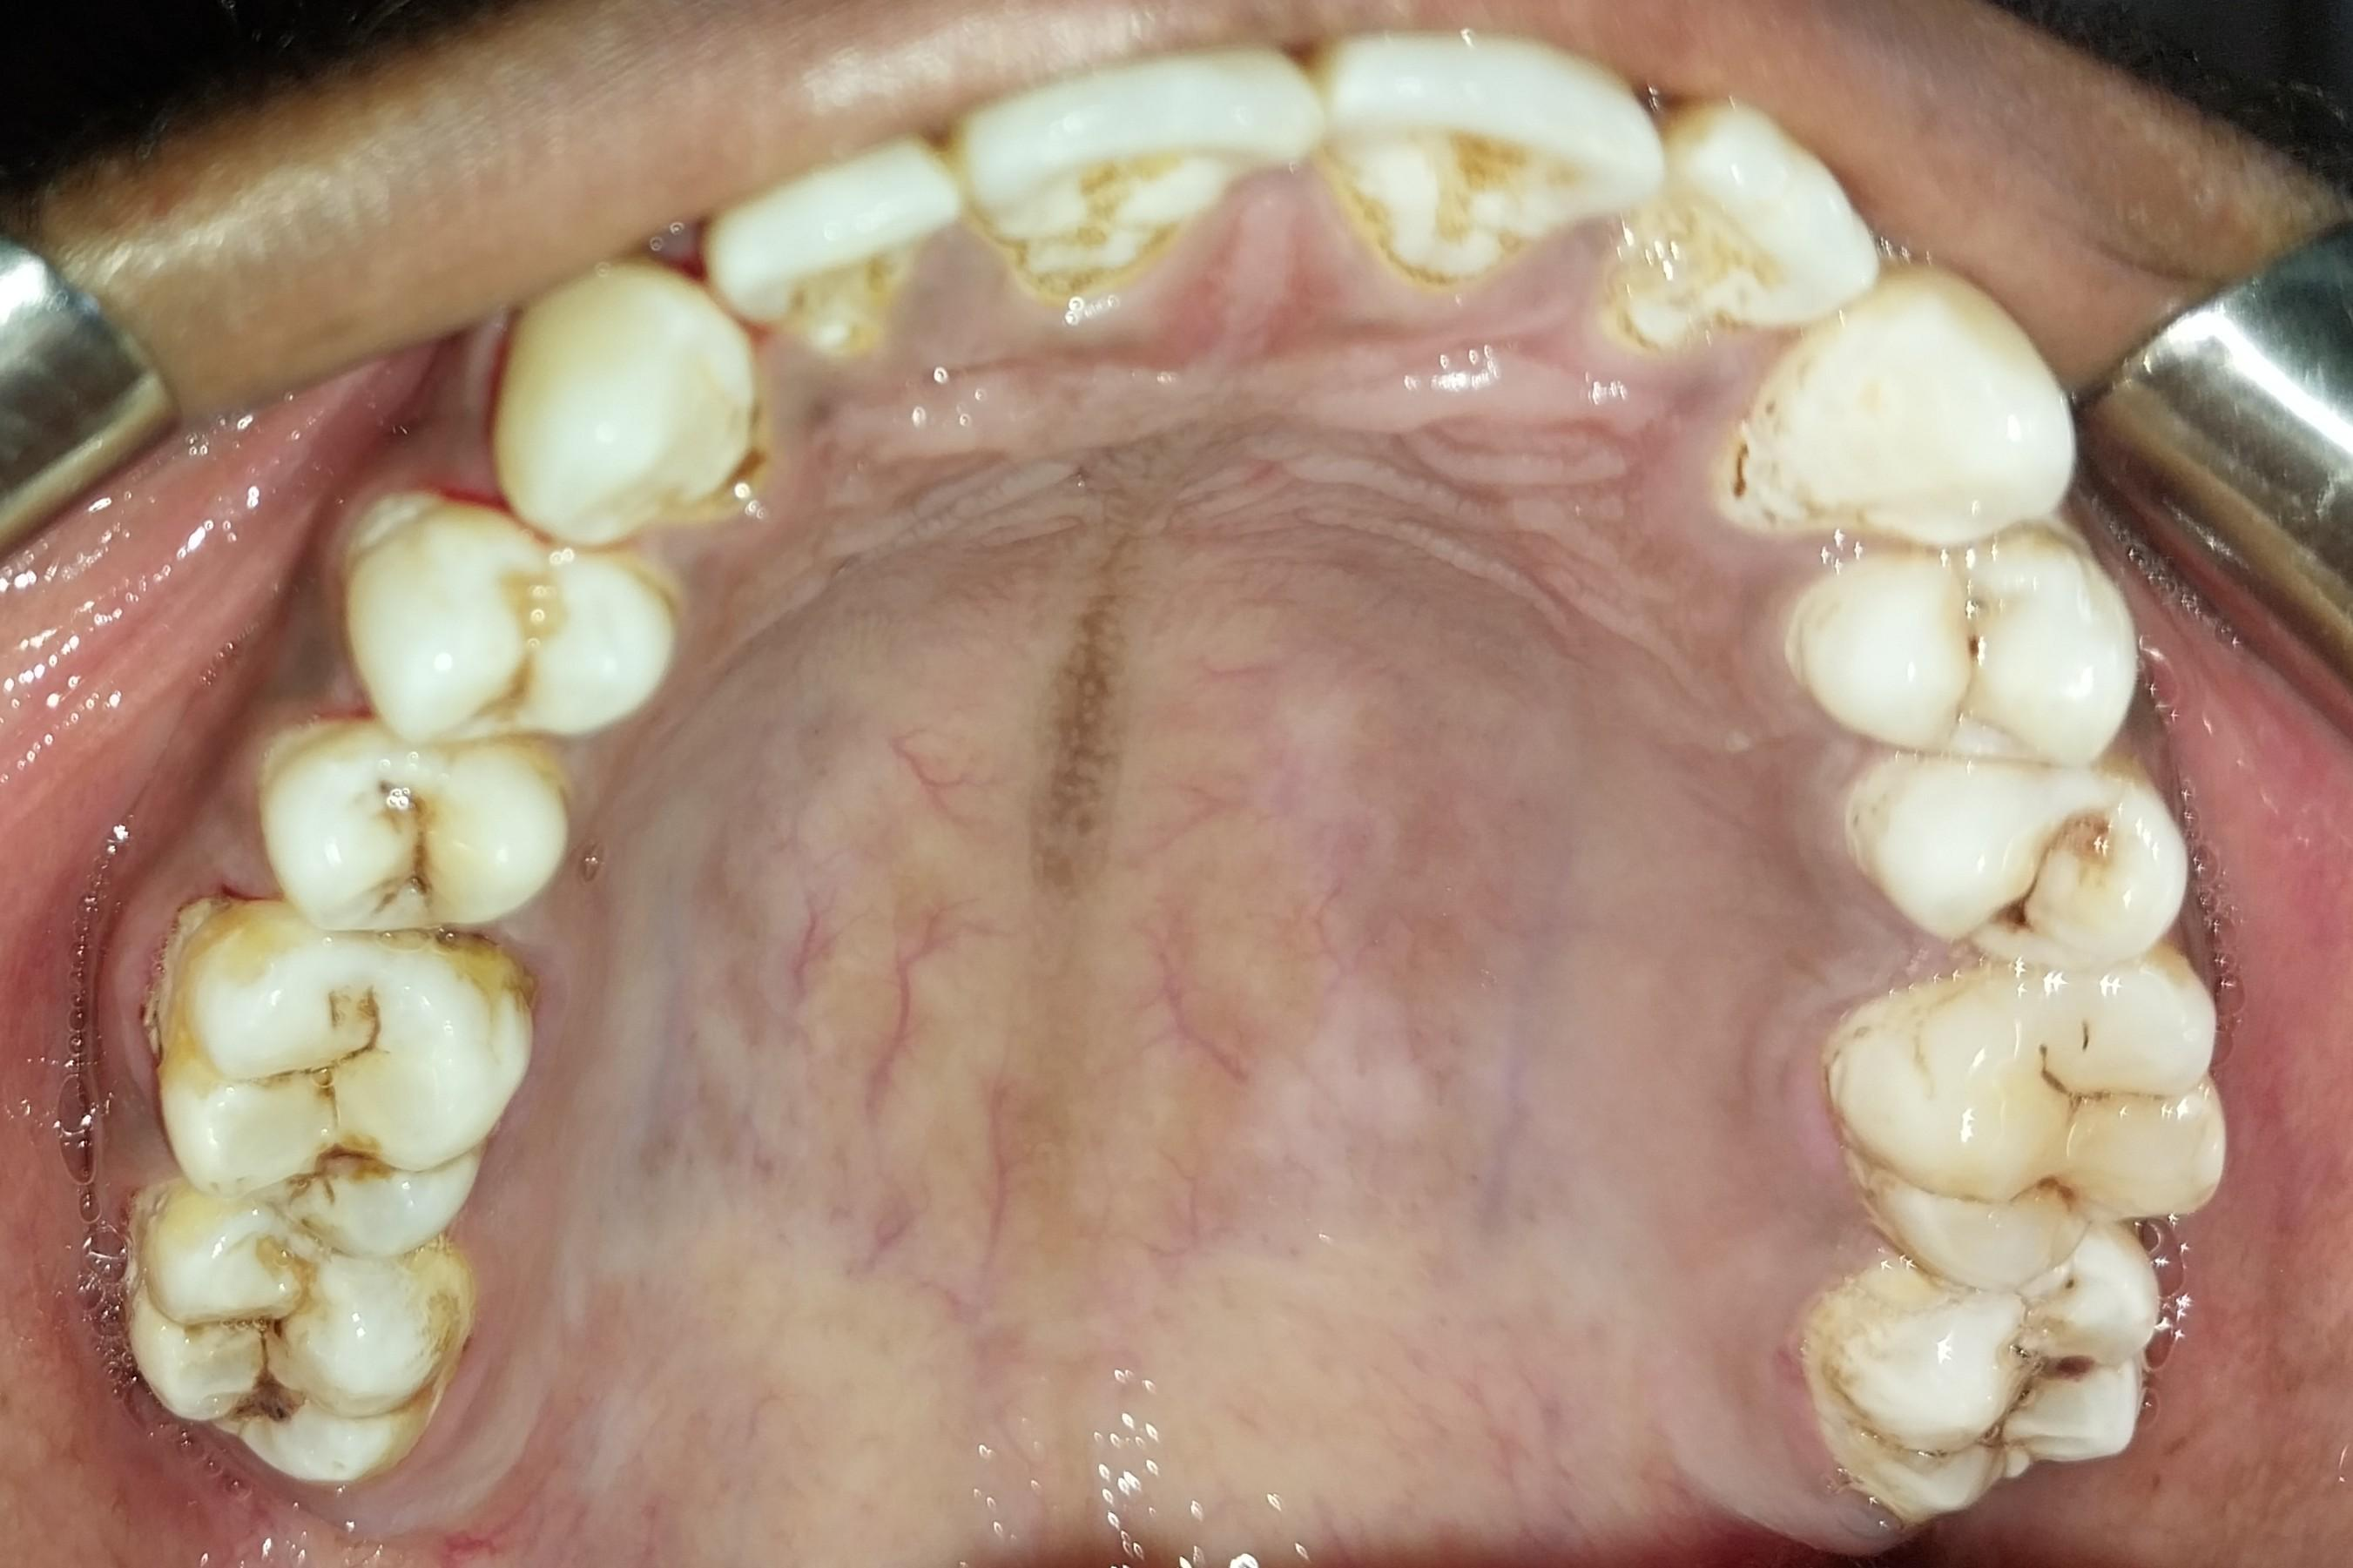D: (1864, 947, 2240, 1289), (175, 904, 520, 1255), (128, 1197, 471, 1488), (1826, 1246, 2156, 1529), (1777, 547, 2142, 762), (1859, 748, 2188, 979), (253, 718, 563, 933)
